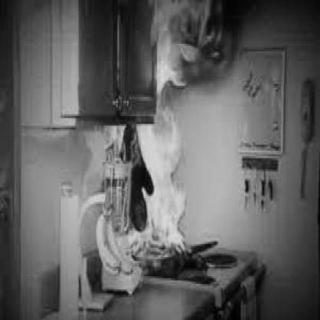Fire: (79, 4, 233, 260)
